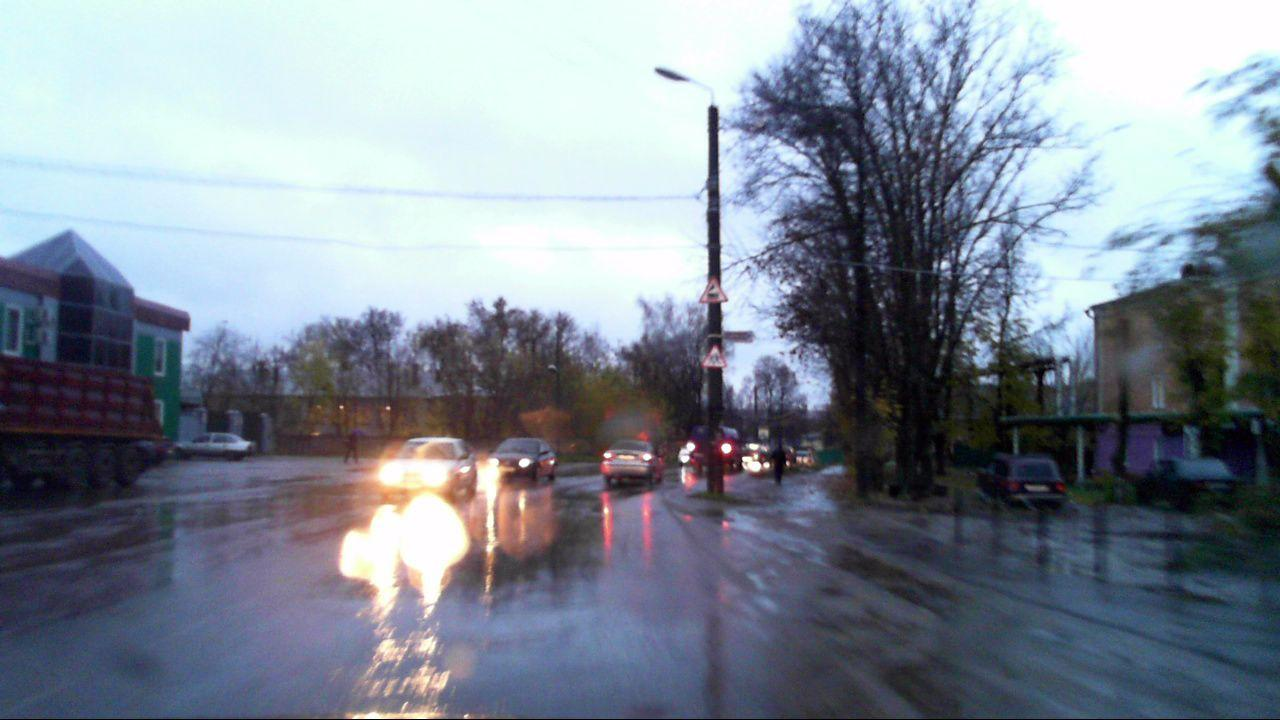1_2: (700, 275, 727, 304)
1_23: (701, 343, 727, 368)
